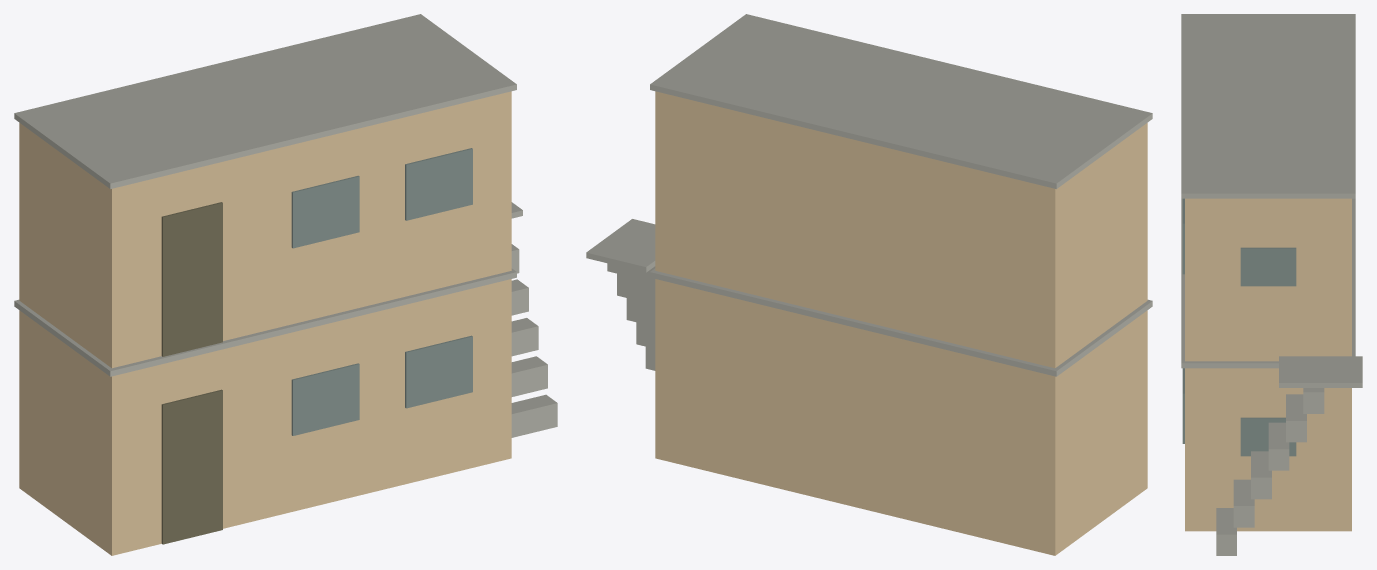
The model's file is SM_Caseta_v2_Apiladas_LOD1.fbx.
The picture shows the model from 3 angles, left to right: view 1: azimuth 30°, elevation 25°; view 2: azimuth 150°, elevation 25°; view 3: azimuth 270°, elevation 25°; orthographic projection. The views are drawn at different scales.
Parts seen in each view (by area): view 1: SM_ambiente_aerodromo_v12_LOD1; view 2: SM_ambiente_aerodromo_v12_LOD1; view 3: SM_ambiente_aerodromo_v12_LOD1.
Part boxes in pixels (x1,y1,x2,y2): SM_ambiente_aerodromo_v12_LOD1: (14, 14, 557, 555); SM_ambiente_aerodromo_v12_LOD1: (586, 14, 1152, 555); SM_ambiente_aerodromo_v12_LOD1: (1181, 14, 1362, 555).
Bounding box in the file's own units: 7 × 5.37 × 2.6.
